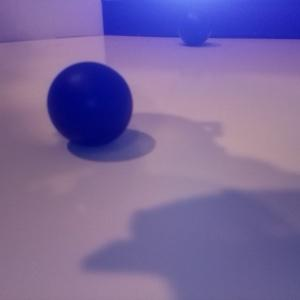dead_ball: (45, 60, 133, 146), (176, 7, 211, 45)
